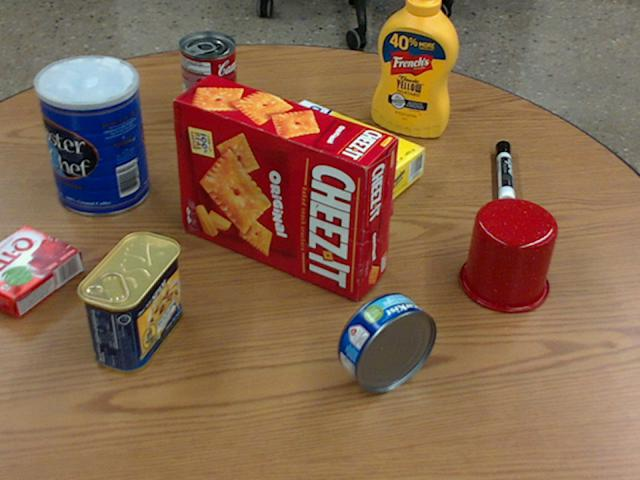cracker_box: (173, 75, 397, 301)
gelatin_box: (0, 224, 80, 315)
large_marker: (497, 141, 515, 207)
master_chef_can: (35, 56, 148, 216)
mug: (459, 197, 557, 312)
mustard_bottle: (373, 0, 459, 136)
potted_meat_can: (75, 230, 179, 371)
sugar_box: (260, 100, 425, 208)
tomato_soup_can: (179, 31, 237, 129)
tuna_fish_can: (338, 292, 436, 392)
